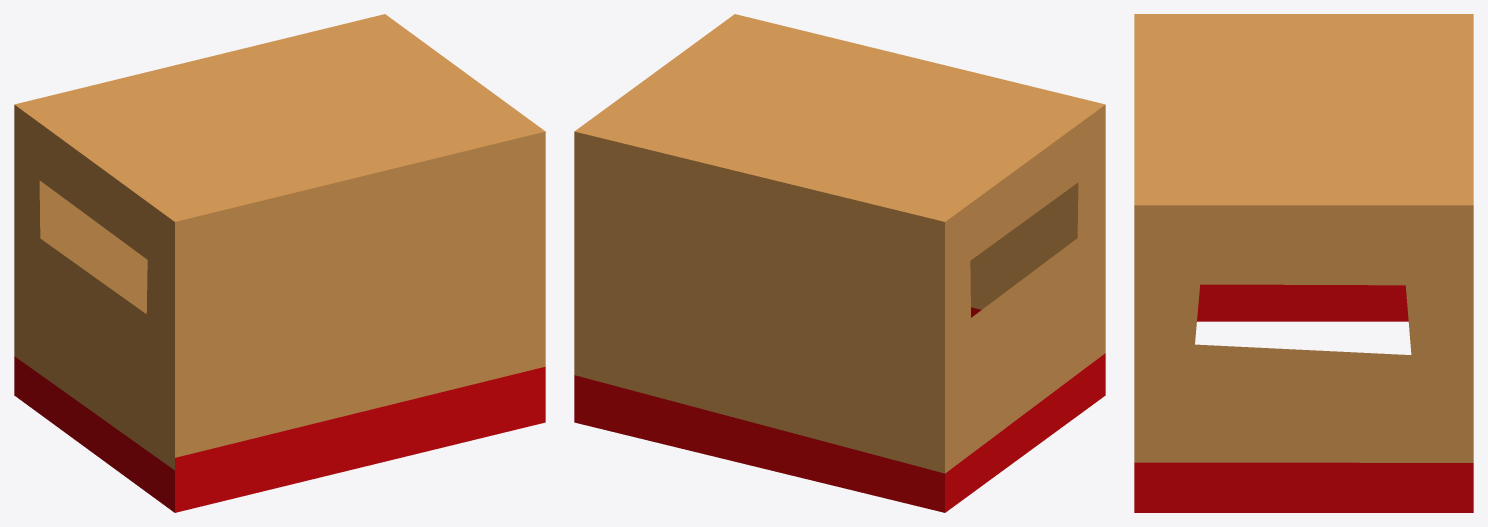
3 views of the same model, side by side, from view 1: azimuth 30°, elevation 25°; view 2: azimuth 150°, elevation 25°; view 3: azimuth 270°, elevation 25° (orthographic). The views are drawn at different scales.
Visible parts, largest first — view 1: Cube; view 2: Cube; view 3: Cube.
Part boxes in pixels (x1,y1,x2,y2): Cube: [14, 14, 545, 512]; Cube: [574, 14, 1105, 512]; Cube: [1134, 14, 1473, 512].
Size of the model in its own units: 203 by 152 by 152.
